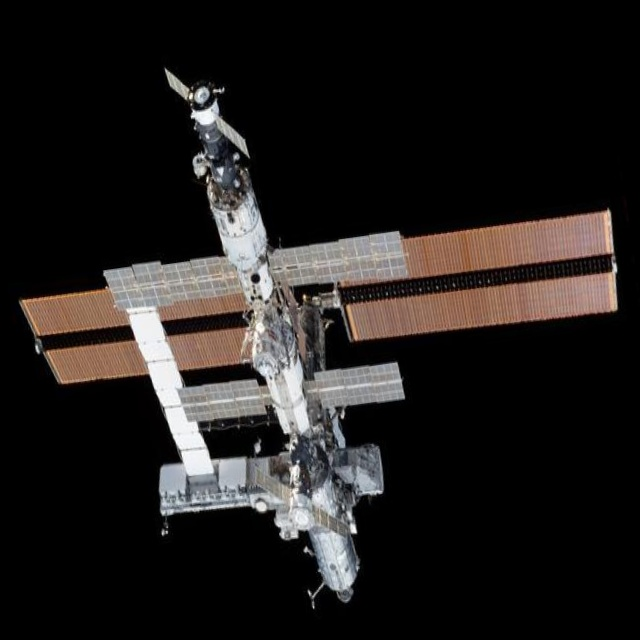medium_debris: (0, 7, 640, 640)
